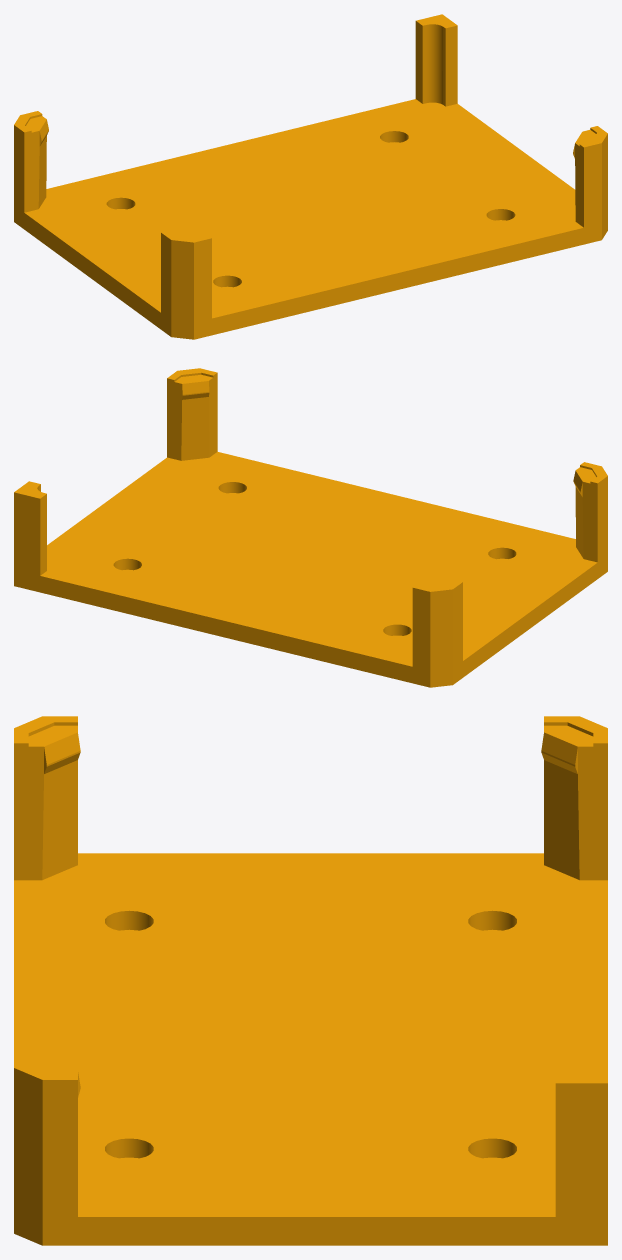
Rendered from Orbitalshaker.glb.
3 renders of one model, top to bottom at view 1: azimuth 30°, elevation 25°; view 2: azimuth 150°, elevation 25°; view 3: azimuth 270°, elevation 25°, orthographic. The views are drawn at different scales.
Parts seen in each view (by area): view 1: Clamp_Plate; view 2: Clamp_Plate; view 3: Clamp_Plate.
Part boxes in pixels (box(x1,y1,x2,y2)): Clamp_Plate: box(14, 14, 607, 339); Clamp_Plate: box(14, 368, 607, 687); Clamp_Plate: box(14, 716, 607, 1245).
Size of the model in its own units: 136 by 28.8 by 93.5.
